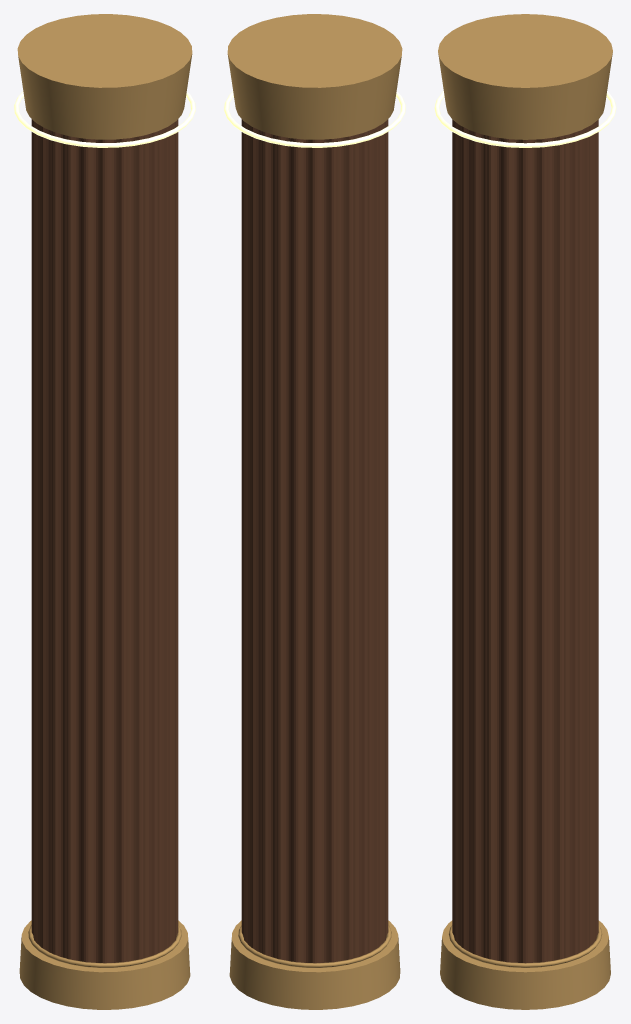
Rendered from column_fluted_5.glb.
3 renders of one model, left to right at view 1: azimuth 30°, elevation 25°; view 2: azimuth 150°, elevation 25°; view 3: azimuth 270°, elevation 25°, orthographic.
Visible parts, largest first — view 1: Mesh_Shaft, Mesh_Capital, Mesh_Plinth, Mesh_Uplight, Mesh_BaseRing; view 2: Mesh_Shaft, Mesh_Capital, Mesh_Plinth, Mesh_Uplight, Mesh_BaseRing; view 3: Mesh_Shaft, Mesh_Capital, Mesh_Plinth, Mesh_Uplight, Mesh_BaseRing.
Boxes of the visible parts, x1,y1,x2,y2 form: Mesh_Shaft: (31,119,178,963); Mesh_Capital: (17,14,192,139); Mesh_Plinth: (19,920,190,1009); Mesh_Uplight: (14,91,195,147); Mesh_BaseRing: (28,925,181,967); Mesh_Shaft: (241,119,388,963); Mesh_Capital: (227,14,402,139); Mesh_Plinth: (229,920,400,1009); Mesh_Uplight: (224,91,405,147); Mesh_BaseRing: (238,925,391,967); Mesh_Shaft: (452,119,598,963); Mesh_Capital: (438,14,612,139); Mesh_Plinth: (440,920,610,1009); Mesh_Uplight: (434,91,616,147); Mesh_BaseRing: (448,925,602,967).
Bounding box in the file's own units: 0.894 × 5 × 0.894.
